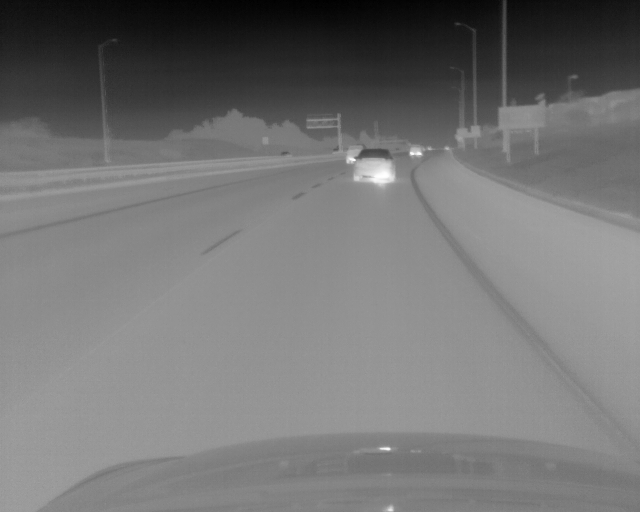car: (352, 148, 397, 184), (345, 145, 364, 164), (408, 146, 423, 158), (280, 152, 293, 156)
